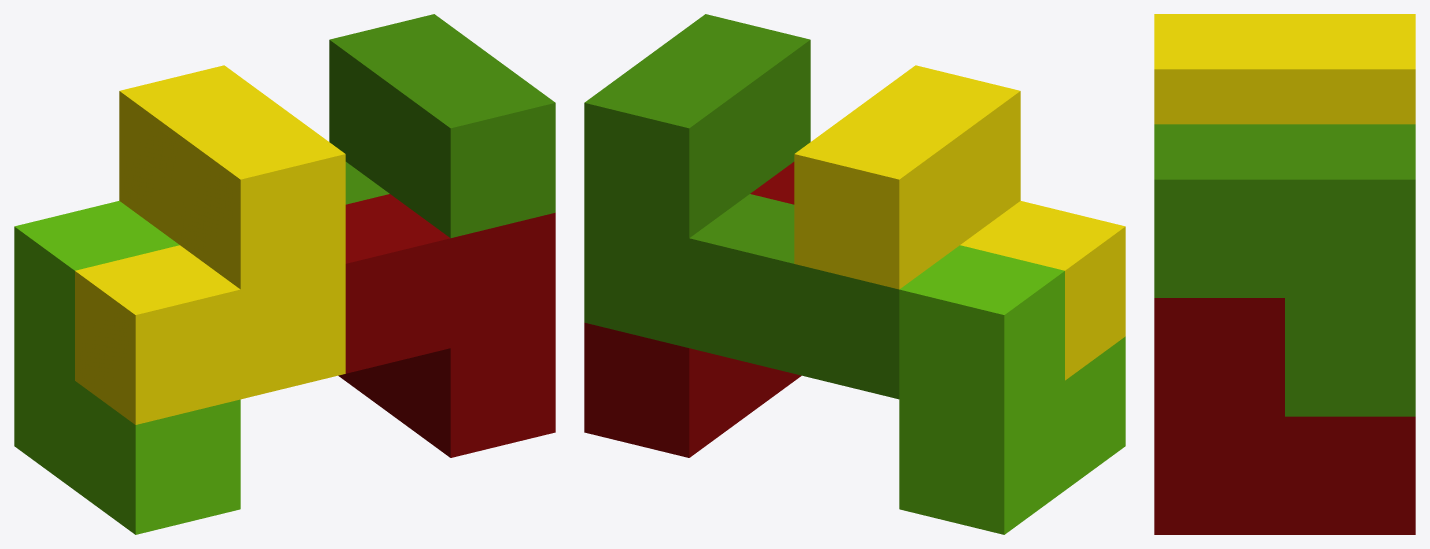
The picture shows the model from 3 angles, left to right: view 1: azimuth 30°, elevation 25°; view 2: azimuth 150°, elevation 25°; view 3: azimuth 270°, elevation 25°; orthographic projection. The views are drawn at different scales.
Visible parts, largest first — view 1: mergedBlocks(Clone); view 2: mergedBlocks(Clone); view 3: mergedBlocks(Clone).
Part boxes in pixels (x1=…): mergedBlocks(Clone): x1=14, y1=14, x2=555, y2=534; mergedBlocks(Clone): x1=584, y1=14, x2=1125, y2=534; mergedBlocks(Clone): x1=1154, y1=14, x2=1415, y2=534.
Bounding box in the file's own units: 4 × 3 × 2.
Materials: 4 (4 with a texture image).
